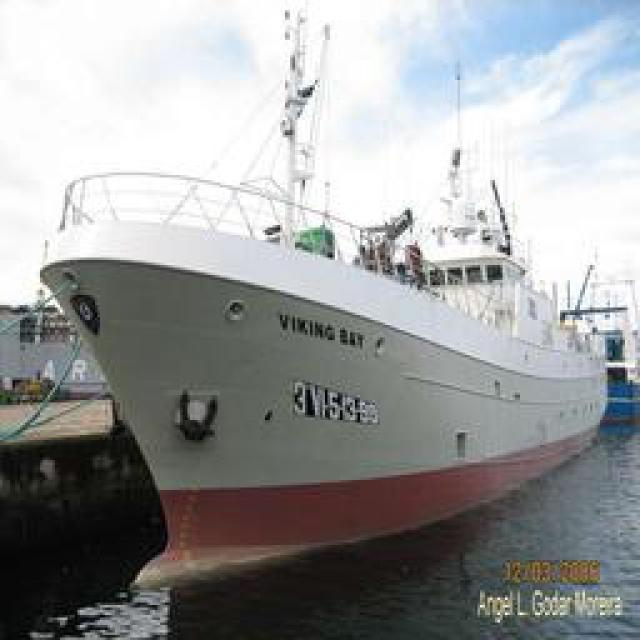Ship: (35, 126, 608, 601)
